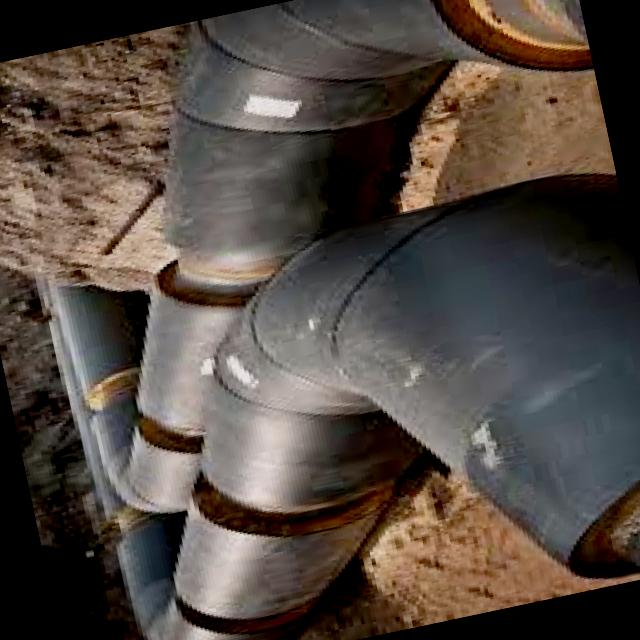gas: (159, 175, 640, 640), (138, 0, 593, 433), (124, 416, 200, 511)
